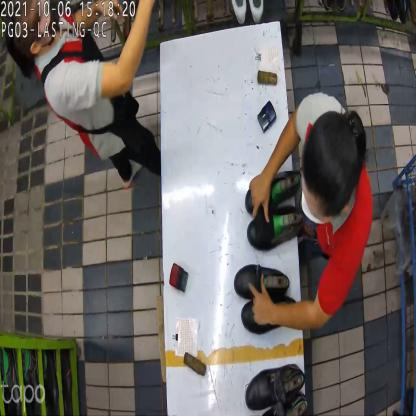shoes: (243, 169, 304, 256), (233, 260, 297, 336), (246, 366, 316, 415)
stamp: (170, 262, 192, 296), (258, 100, 276, 135)
